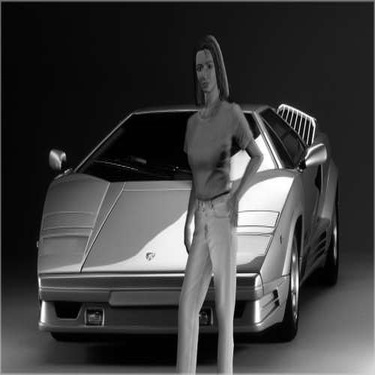car: (12, 78, 348, 352)
